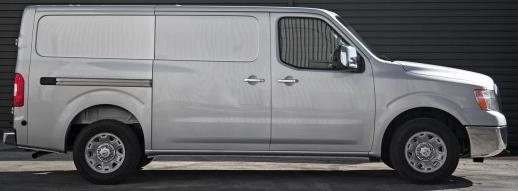headlight: (469, 84, 511, 123)
side_glass: (153, 7, 365, 83)
